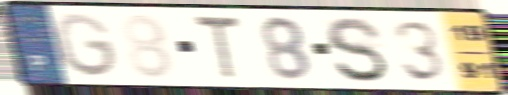3: (391, 19, 449, 83)
8: (120, 11, 177, 82), (259, 14, 313, 83)
G: (52, 11, 122, 81)
S: (322, 15, 392, 86)
T: (190, 12, 244, 83)
